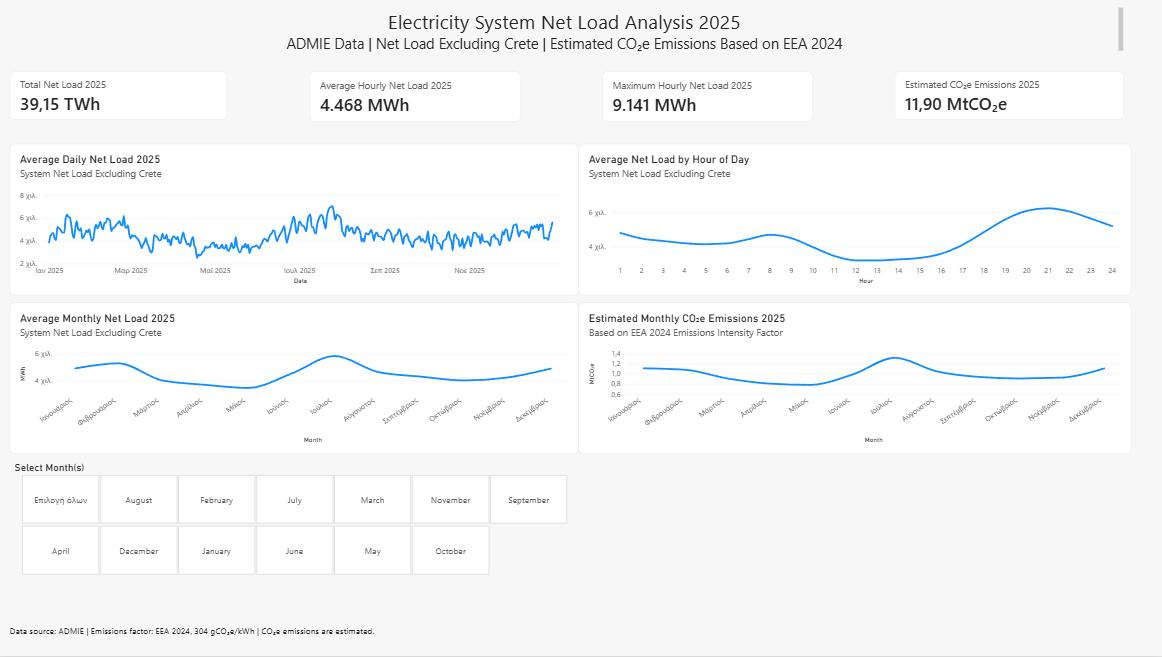

Layout of this report page (visuals, bound fields, positions):
{"tool":"powerbi","page":{"name":"Dashboard Overview ","canvas":[1920,1080],"ordinal":0},"visuals":[{"type":"cardVisual","fields":{"Data":["admie_system_load_2025.Συνολικό Net Load (TWh)","admie_system_load_2025.Συνολικό Net Load (TWh)"]},"box":[23.3,116.7,358.9,80.2],"z":0},{"type":"cardVisual","fields":{"Data":["admie_system_load_2025.Μέση Ωριαία Ενέργεια - Εμφάνιση"]},"box":[516.5,116.7,347.2,83.2],"z":1000},{"type":"cardVisual","fields":{"Data":["admie_system_load_2025.Μέγιστη Ωριαία Ενέργεια (MWh)","admie_system_load_2025.Μέγιστη Ωριαία Ενέργεια (MWh)"]},"box":[997.9,116.7,347.2,83.2],"z":2000},{"type":"lineChart","title":"Average Daily Net Load 2025","fields":{"Category":["admie_system_load_2025.Date"],"Y":["Avg(admie_system_load_2025.Load_MWh)"]},"box":[23.3,236.4,936.7,249.5],"z":3000},{"type":"lineChart","title":"Average Net Load by Hour of Day","fields":{"Category":["admie_system_load_2025.Hour"],"Y":["Avg(admie_system_load_2025.Load_MWh)"]},"box":[960,236.4,910.4,249.5],"z":4000},{"type":"lineChart","title":"Average Monthly Net Load 2025","fields":{"Category":["admie_system_load_2025.Date.Παραλλαγή.Ιεραρχία ημερομηνιών.Μήνας"],"Y":["Avg(admie_system_load_2025.Load_MWh)"]},"box":[23.3,499,936.7,249.5],"z":5000},{"type":"slicer","fields":{"Values":["admie_system_load_2025.Month_EN"]},"box":[23.3,758.7,936.7,188.2],"z":6000},{"type":"cardVisual","fields":{"Data":["admie_system_load_2025.Εκτιμώμενες Εκπομπές CO2e (Mt)"]},"box":[1479.4,116.7,377.9,80.2],"z":7000},{"type":"lineChart","title":"Estimated Monthly CO₂e Emissions 2025","fields":{"Category":["admie_system_load_2025.Date.Παραλλαγή.Ιεραρχία ημερομηνιών.Μήνας"],"Y":["admie_system_load_2025.Εκτιμώμενες Εκπομπές CO2e (Mt)"]},"box":[960,499,910.4,249.5],"z":8000},{"type":"textbox","box":[23.3,11.7,1833.9,72.9],"z":9000},{"type":"textbox","box":[561.7,758.7,412.9,294.7],"z":10000},{"type":"textbox","box":[23.3,1030,917.7,23.3],"z":11000}]}

Visuals, with their boxes in screenshot pixels (x1, y1, x2, y2), scaled from the page's 1920x1080 canvas onto the 1162x657 screenshot:
cardVisual - admie_system_load_2025.Συνολικό Net Load (TWh) x admie_system_load_2025.Συνολικό Net Load (TWh): {"left": 14, "top": 71, "right": 231, "bottom": 120}
cardVisual - admie_system_load_2025.Μέση Ωριαία Ενέργεια - Εμφάνιση: {"left": 313, "top": 71, "right": 523, "bottom": 122}
cardVisual - admie_system_load_2025.Μέγιστη Ωριαία Ενέργεια (MWh) x admie_system_load_2025.Μέγιστη Ωριαία Ενέργεια (MWh): {"left": 604, "top": 71, "right": 814, "bottom": 122}
"Average Daily Net Load 2025" lineChart: {"left": 14, "top": 144, "right": 581, "bottom": 296}
"Average Net Load by Hour of Day" lineChart: {"left": 581, "top": 144, "right": 1132, "bottom": 296}
"Average Monthly Net Load 2025" lineChart: {"left": 14, "top": 304, "right": 581, "bottom": 455}
slicer - admie_system_load_2025.Month_EN: {"left": 14, "top": 462, "right": 581, "bottom": 576}
cardVisual - admie_system_load_2025.Εκτιμώμενες Εκπομπές CO2e (Mt): {"left": 895, "top": 71, "right": 1124, "bottom": 120}
"Estimated Monthly CO₂e Emissions 2025" lineChart: {"left": 581, "top": 304, "right": 1132, "bottom": 455}
textbox: {"left": 14, "top": 7, "right": 1124, "bottom": 51}
textbox: {"left": 340, "top": 462, "right": 590, "bottom": 641}
textbox: {"left": 14, "top": 627, "right": 570, "bottom": 641}
